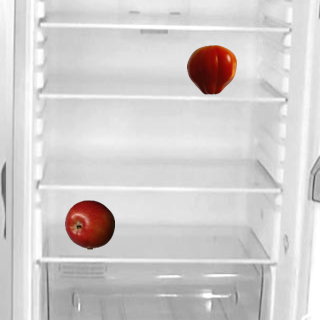Apple Braeburn: (64, 199, 114, 249)
Tomato 1: (186, 44, 236, 94)
